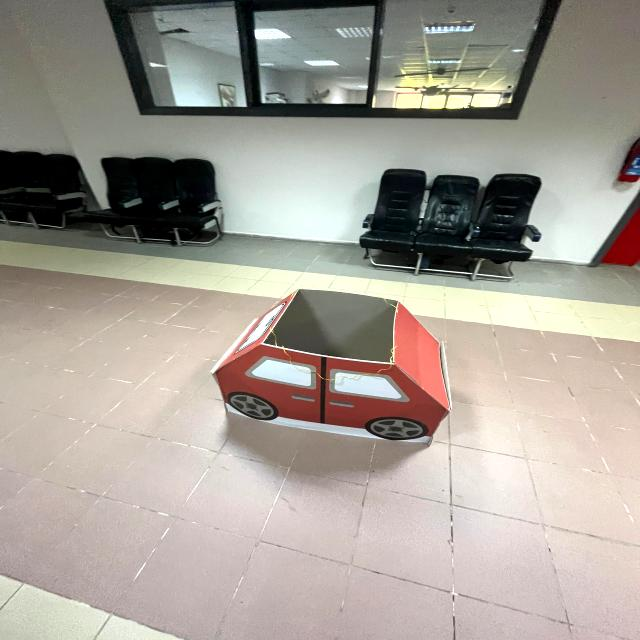red_car: (194, 276, 470, 465)
